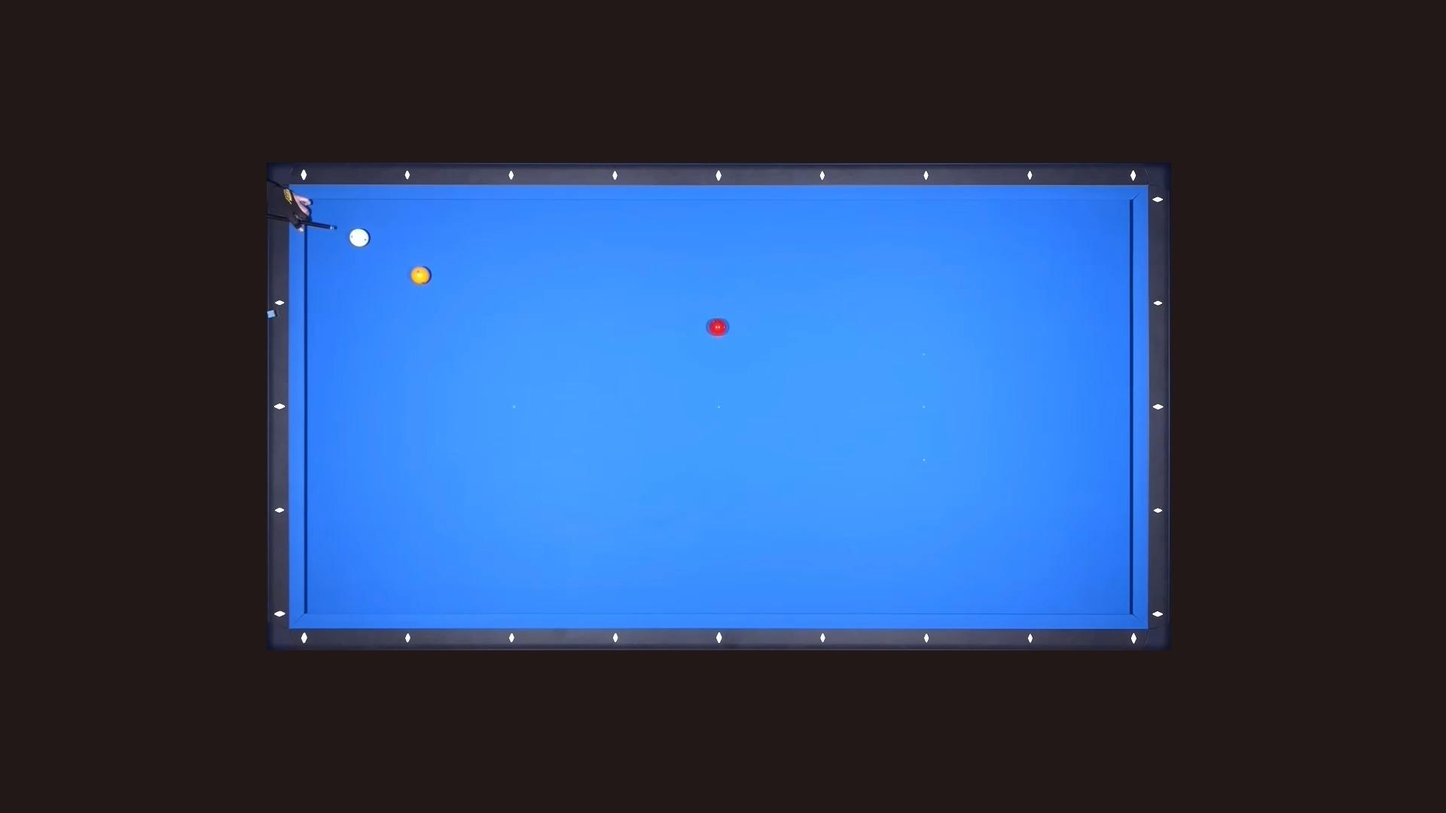Red: (707, 319, 731, 337)
White: (345, 228, 370, 248)
Yellow: (406, 266, 432, 286)
